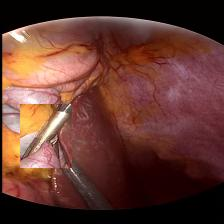Grasper: (19, 104, 71, 168)
